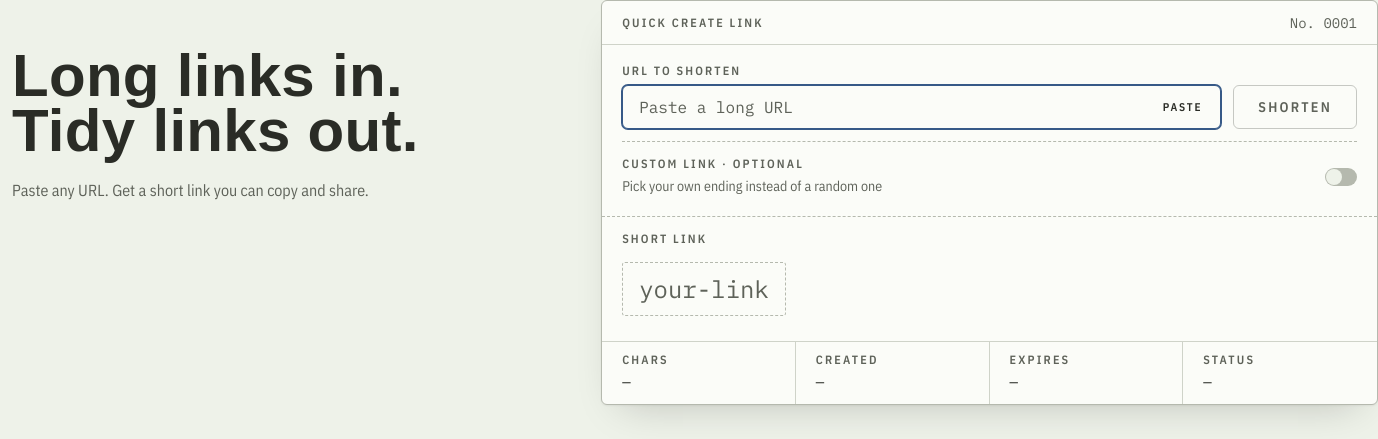
Test case: ShortenForm › posts the URL and shows the short link
The width and height of the screenshot is (1378, 439).
Type "https://example.com" into the field labelled "URL to shorten" at (922, 107), box top-left (622, 85), bottom-right (1221, 129)
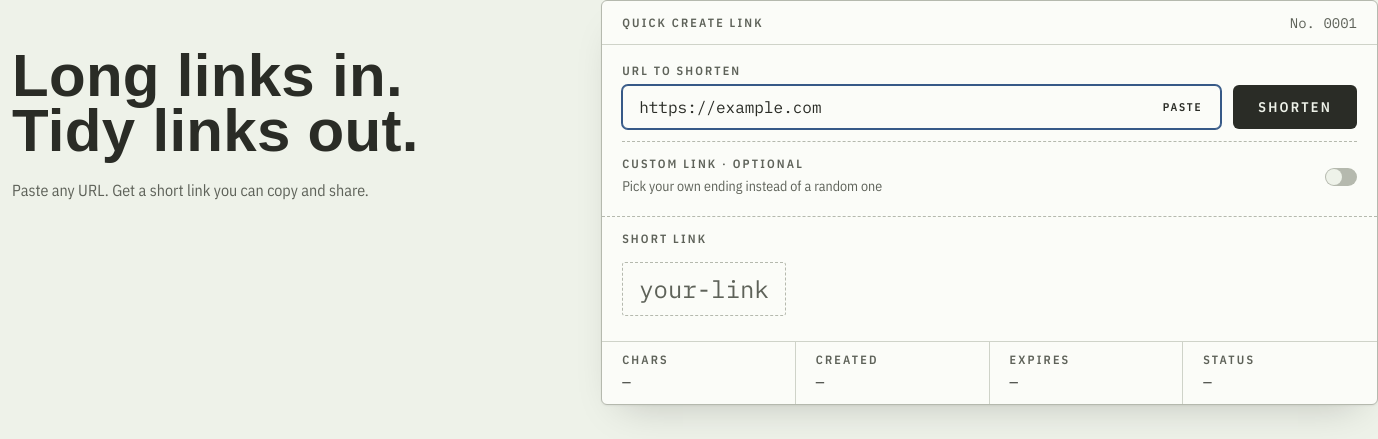
Click the button "Shorten" at (1295, 107), box top-left (1233, 85), bottom-right (1357, 129)
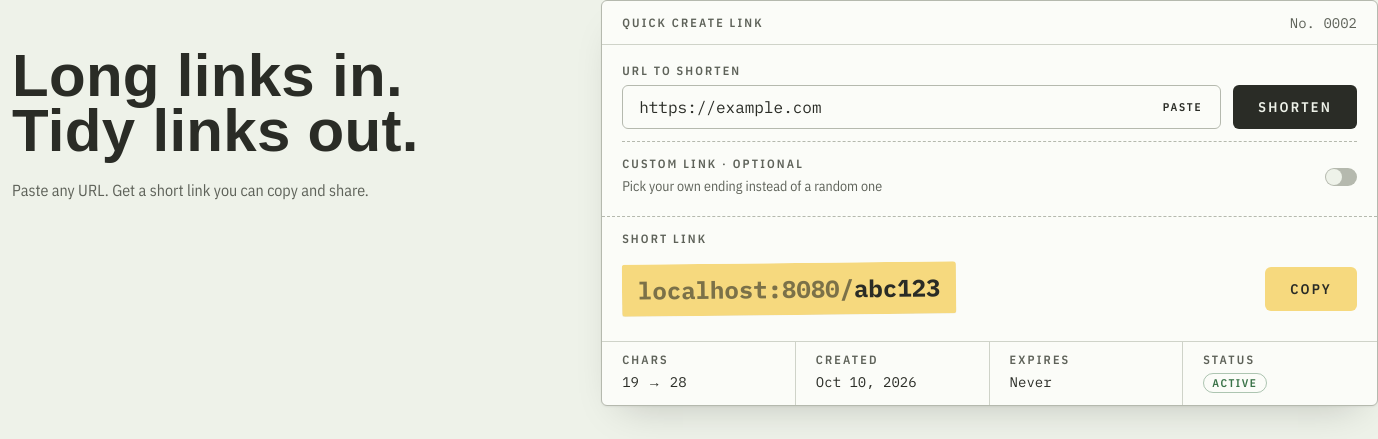
Expected: the link with aria-label "http://localhost:8080/abc123" is shown, top-left (622, 261), bottom-right (957, 317)
